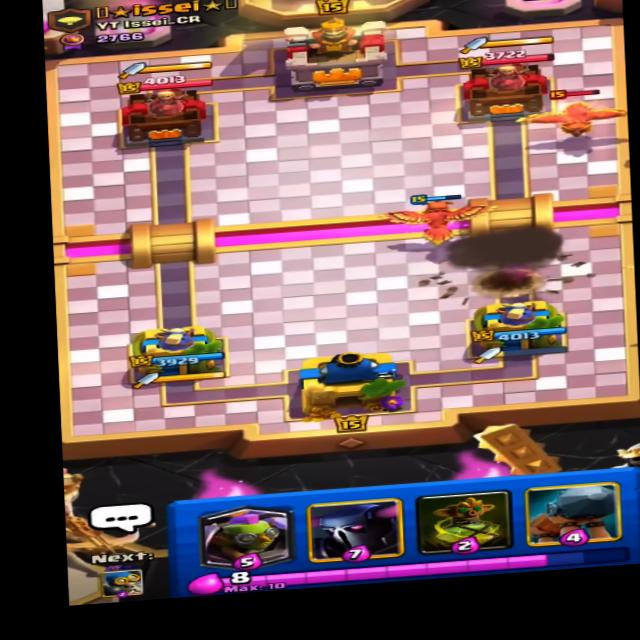phoenix: (515, 83, 625, 138)
